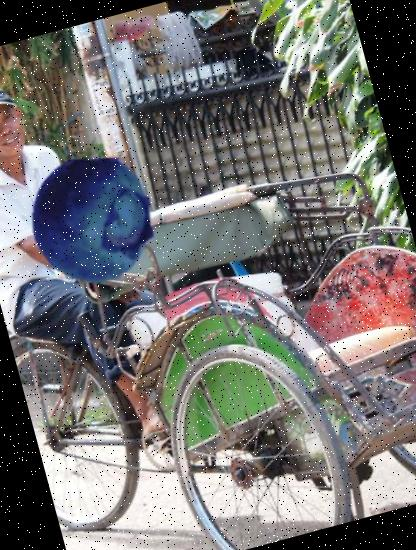Huckleberry: (17, 145, 169, 297)
